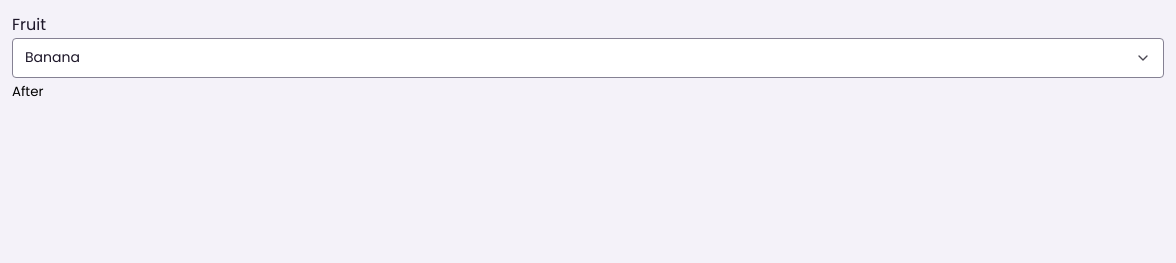
Test case: Dropdown › mouse: click opens, clicking an option calls onChange with target.value and closes
Click the dropdown named "Fruit".
click(52, 57)  # box [12,38,1164,78]
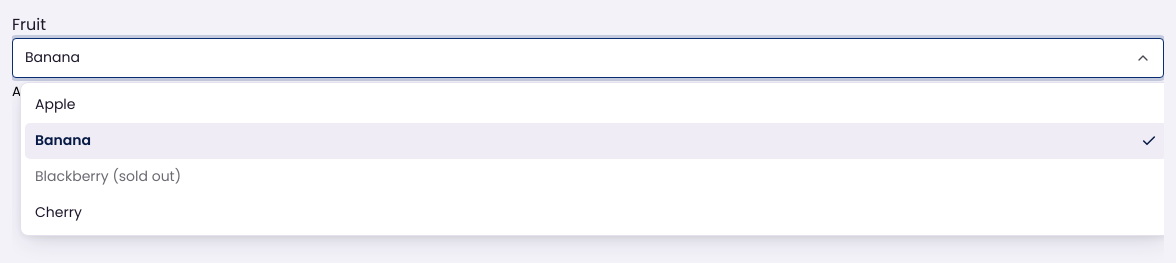
Expected: the dropdown named "Fruit" is expanded, [12,38,1164,78]
Click the option "Cherry".
click(58, 212)  # box [35,202,82,222]
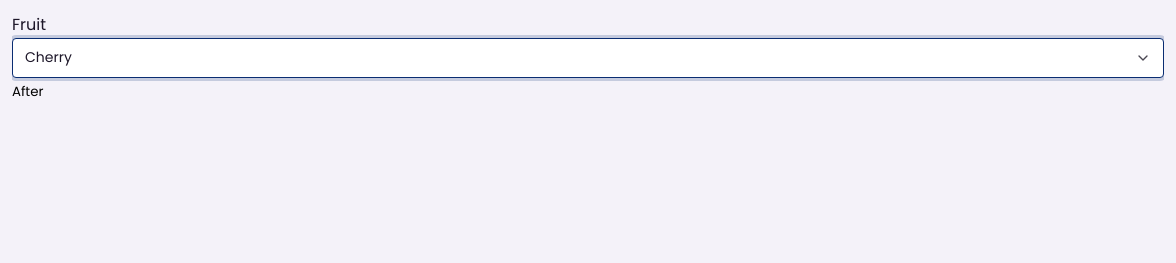
Expected: the list is gone
Expected: the dropdown named "Fruit" reads "Cherry", [12,38,1164,78]
